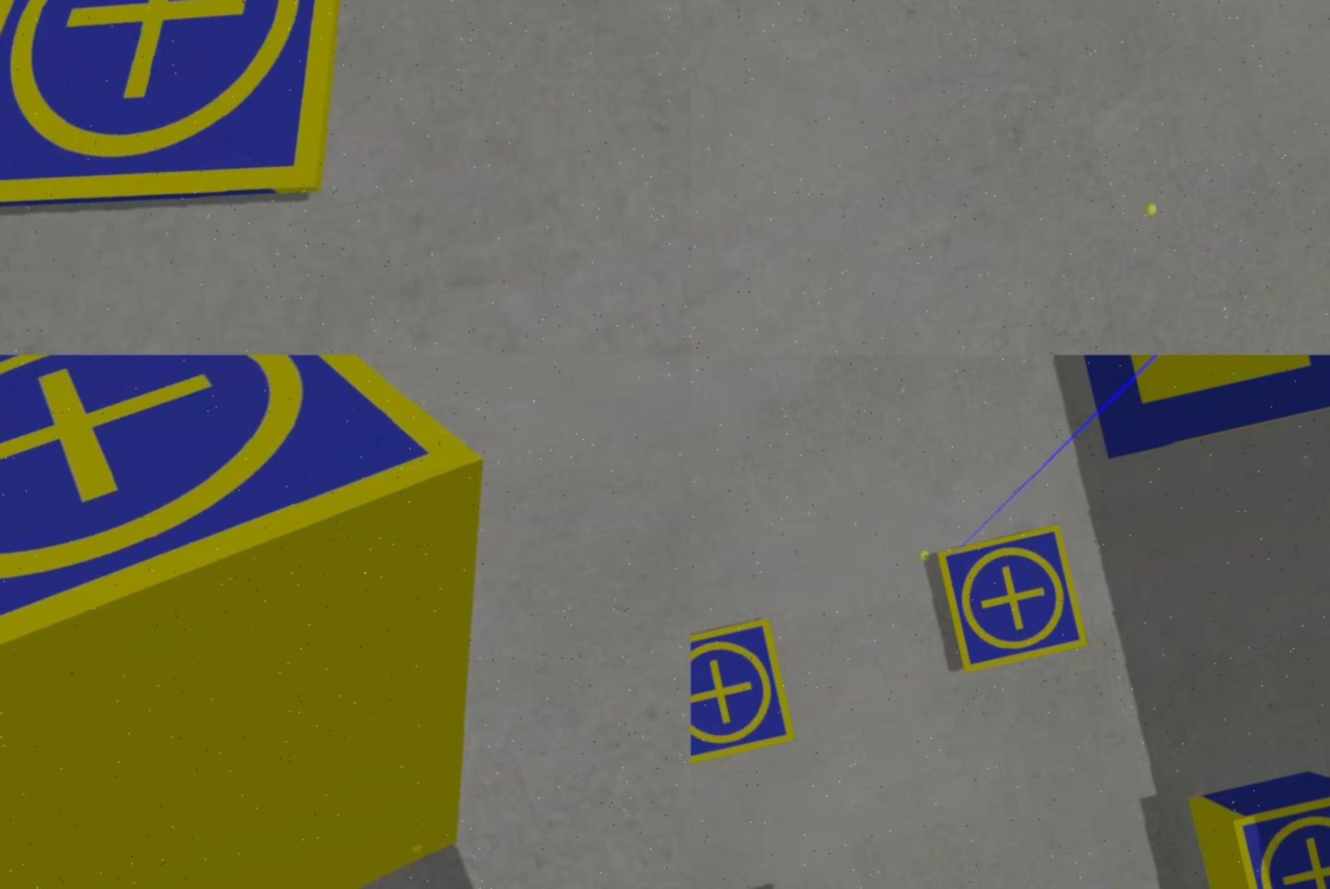large_base: (1053, 356, 1330, 461)
small_base: (1, 356, 510, 751), (1, 1, 431, 290), (932, 521, 1091, 677), (692, 616, 801, 773), (1229, 783, 1330, 889)
